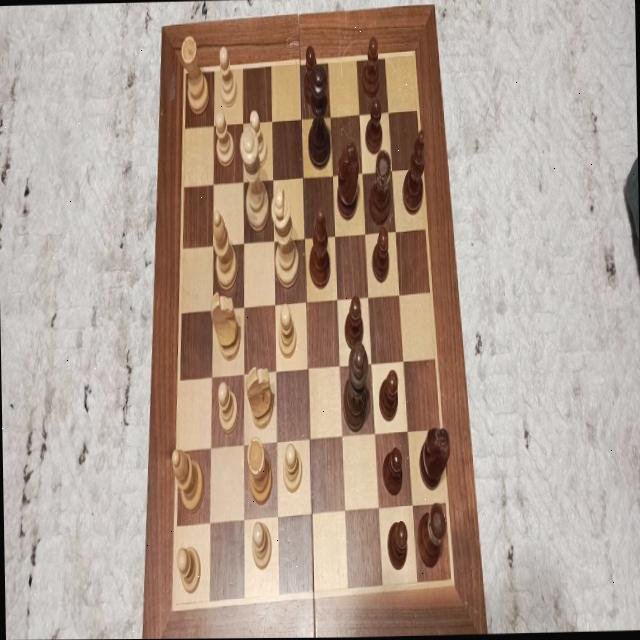black_bishop: (401, 128, 426, 213), (308, 210, 330, 286)
black_king: (340, 341, 370, 431)
black_knight: (418, 426, 451, 489), (335, 141, 360, 216)
black_pawn: (360, 35, 380, 100), (386, 519, 408, 570), (343, 293, 363, 349), (364, 97, 383, 154), (378, 369, 399, 420), (370, 228, 390, 281), (381, 446, 403, 494), (303, 45, 317, 104)
black_queen: (304, 55, 330, 166)
black_rook: (417, 503, 448, 568), (366, 148, 392, 225)
white_bishop: (172, 444, 204, 513), (211, 206, 237, 289)
white_king: (270, 182, 298, 284)
white_knight: (210, 289, 242, 361), (244, 365, 274, 429)
white_pawn: (216, 378, 238, 431), (218, 43, 236, 106), (177, 544, 200, 592), (249, 110, 267, 167), (216, 112, 234, 167), (251, 519, 271, 568), (278, 303, 296, 357), (282, 440, 301, 491)
white_queen: (239, 120, 269, 227)
white_rook: (180, 33, 208, 114), (246, 438, 272, 504)
